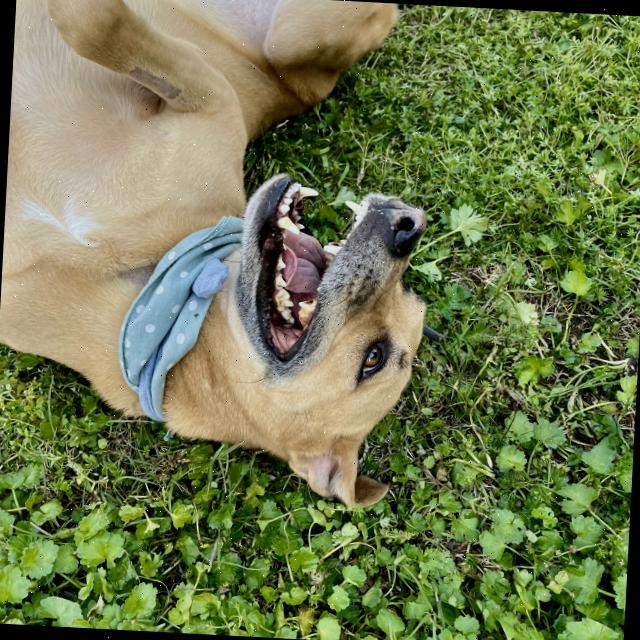labrador_retriever_dog: (150, 149, 468, 532)
